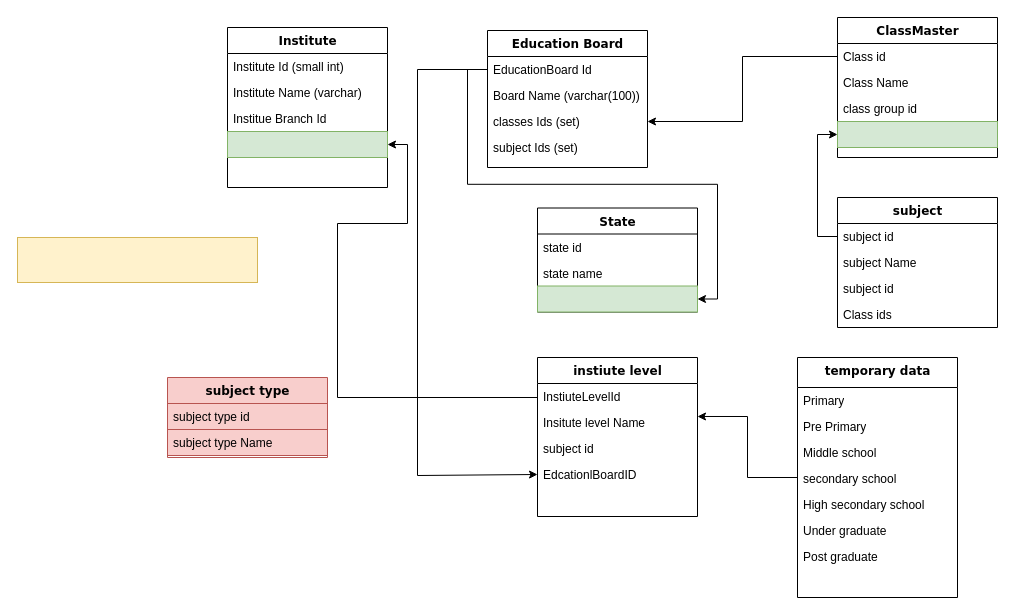
The diagram is 1015 pixels wide and 615 high, and some of its shapes have lost their labels. The shapes that lost their labels are listed below. From the top down, each one's centre as x and y in pixels, then its label:
the point at 307,144: Institutue level Id
the point at 917,134: subject id (set)
the point at 137,259: note:check how to link central board with state board laguages
the point at 617,298: EducationBoard Ids (set)
